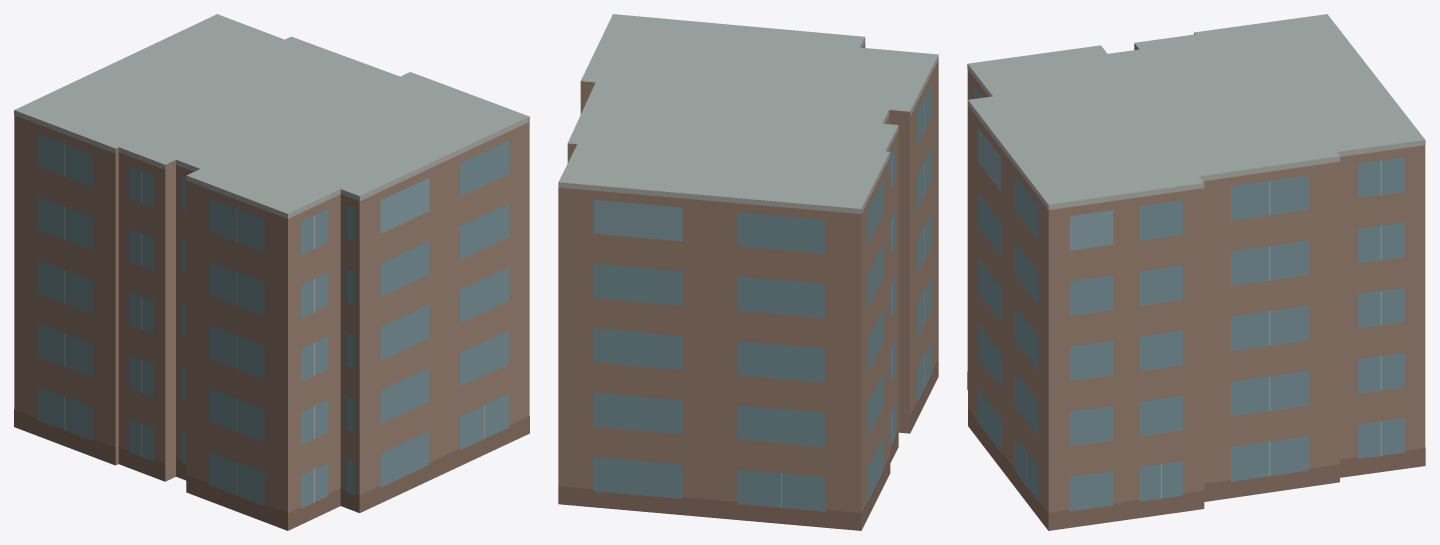
Rendered from survey-upis-32621177.glb.
The picture shows the model from 3 angles, left to right: view 1: azimuth 30°, elevation 25°; view 2: azimuth 150°, elevation 25°; view 3: azimuth 270°, elevation 25°; orthographic projection. The views are drawn at different scales.
Parts seen in each view (by area): view 1: survey-upis-32621177.tmp; view 2: survey-upis-32621177.tmp; view 3: survey-upis-32621177.tmp.
Boxes of the visible parts, x1,y1,x2,y2 form: survey-upis-32621177.tmp: [14, 14, 529, 530]; survey-upis-32621177.tmp: [558, 14, 938, 530]; survey-upis-32621177.tmp: [967, 14, 1425, 530].
Bounding box in the file's own units: 18.96 × 15.1 × 19.23.
